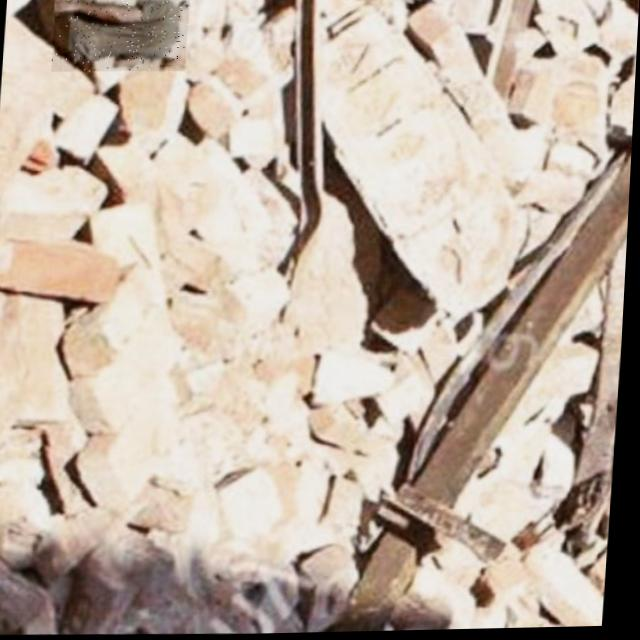Person in Rubble: (50, 0, 188, 73)
